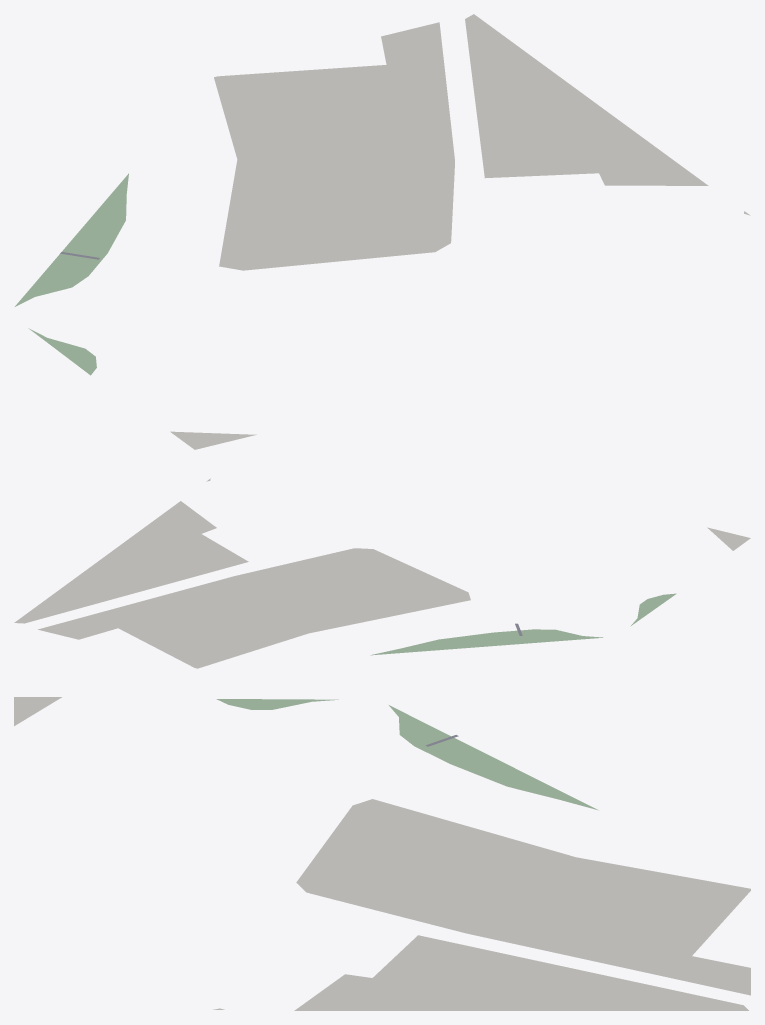
The model's file is 102_114_mid.glb.
3 views of the same model, one above another, from view 1: azimuth 30°, elevation 25°; view 2: azimuth 150°, elevation 25°; view 3: azimuth 270°, elevation 25° (orthographic). The views are drawn at different scales.
Size of the model in its own units: 500 by 7.01 by 500.
